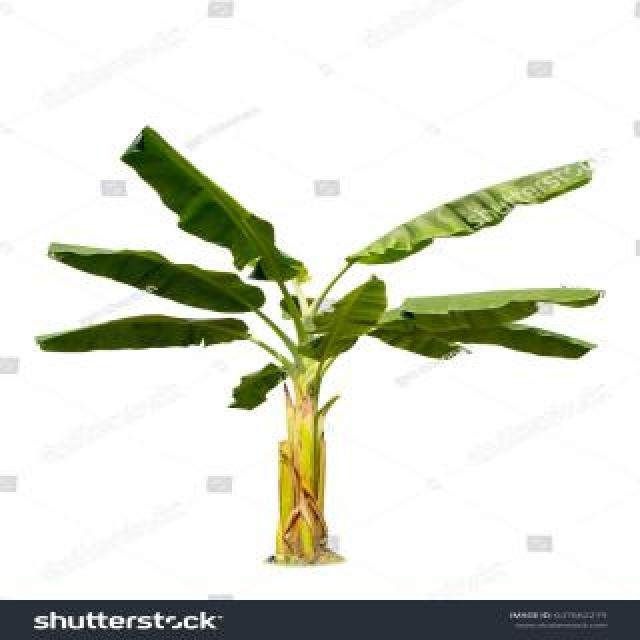Pisang: (29, 109, 610, 572)
